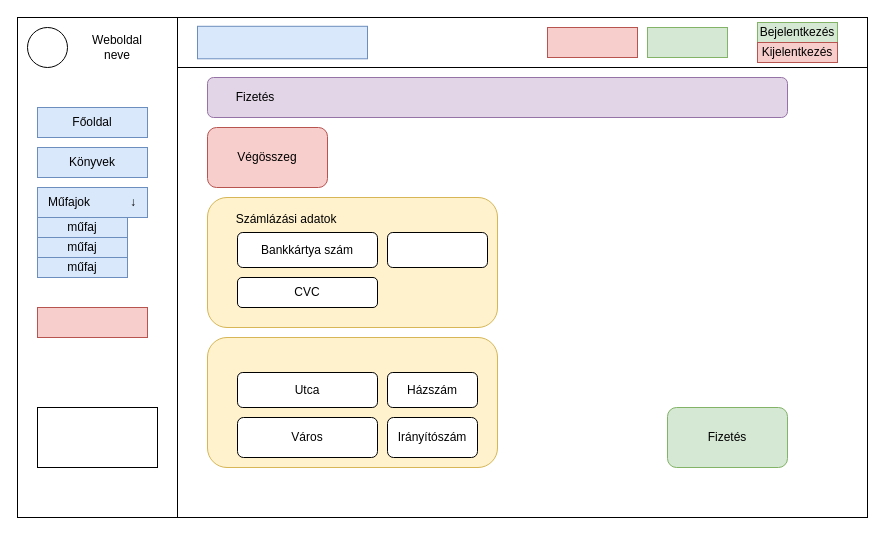
This 885x535 diagram has some shape labels left out. Each missing label, with the box of its shape:
Kedvenc könyvek: (36, 306, 148, 338)
Keresés: (196, 25, 368, 59)
Kosaram: (546, 26, 638, 58)
Lejárati dátum: (386, 232, 488, 268)
Logo: (26, 26, 68, 68)
Regisztráció: (646, 26, 728, 58)
Szállítási adatok: (206, 336, 498, 468)
ÁSZF Kapcsolat: (36, 406, 158, 468)
